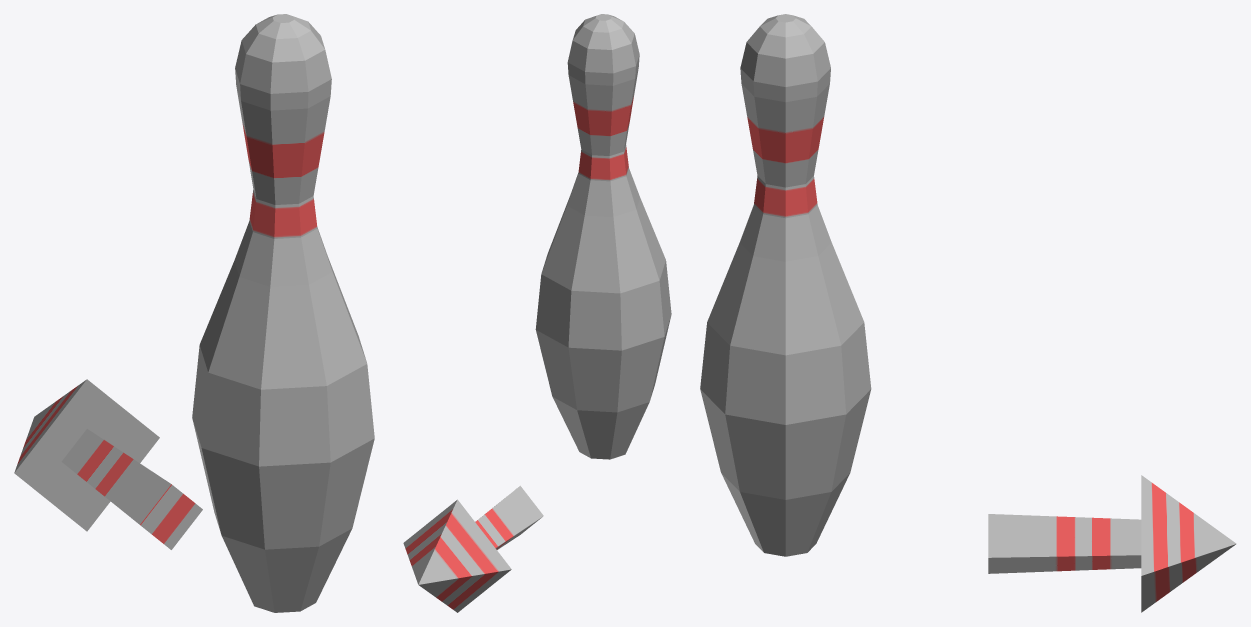
Rendered from Arrow.obj.
The picture shows the model from 3 angles, left to right: view 1: azimuth 30°, elevation 25°; view 2: azimuth 150°, elevation 25°; view 3: azimuth 270°, elevation 25°; orthographic projection. The views are drawn at different scales.
Parts seen in each view (by area): view 1: Circle, Cube_Cube.001; view 2: Circle, Cube_Cube.001; view 3: Circle, Cube_Cube.001.
Boxes of the visible parts, x1,y1,x2,y2 form: Circle: (192,14,374,612); Cube_Cube.001: (14,379,202,549); Circle: (535,14,671,459); Cube_Cube.001: (403,485,543,612); Circle: (700,14,871,556); Cube_Cube.001: (988,475,1236,612).
Size of the model in its own units: 0.9923 by 3.8 by 3.11.
2 materials, 2 textured.
